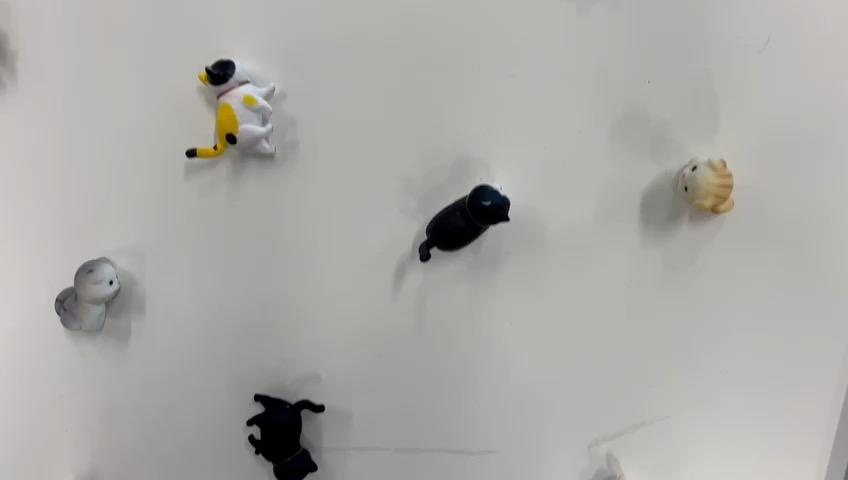pet: (182, 51, 283, 166), (416, 180, 517, 268), (243, 388, 330, 480), (51, 251, 125, 341), (672, 148, 738, 221)
